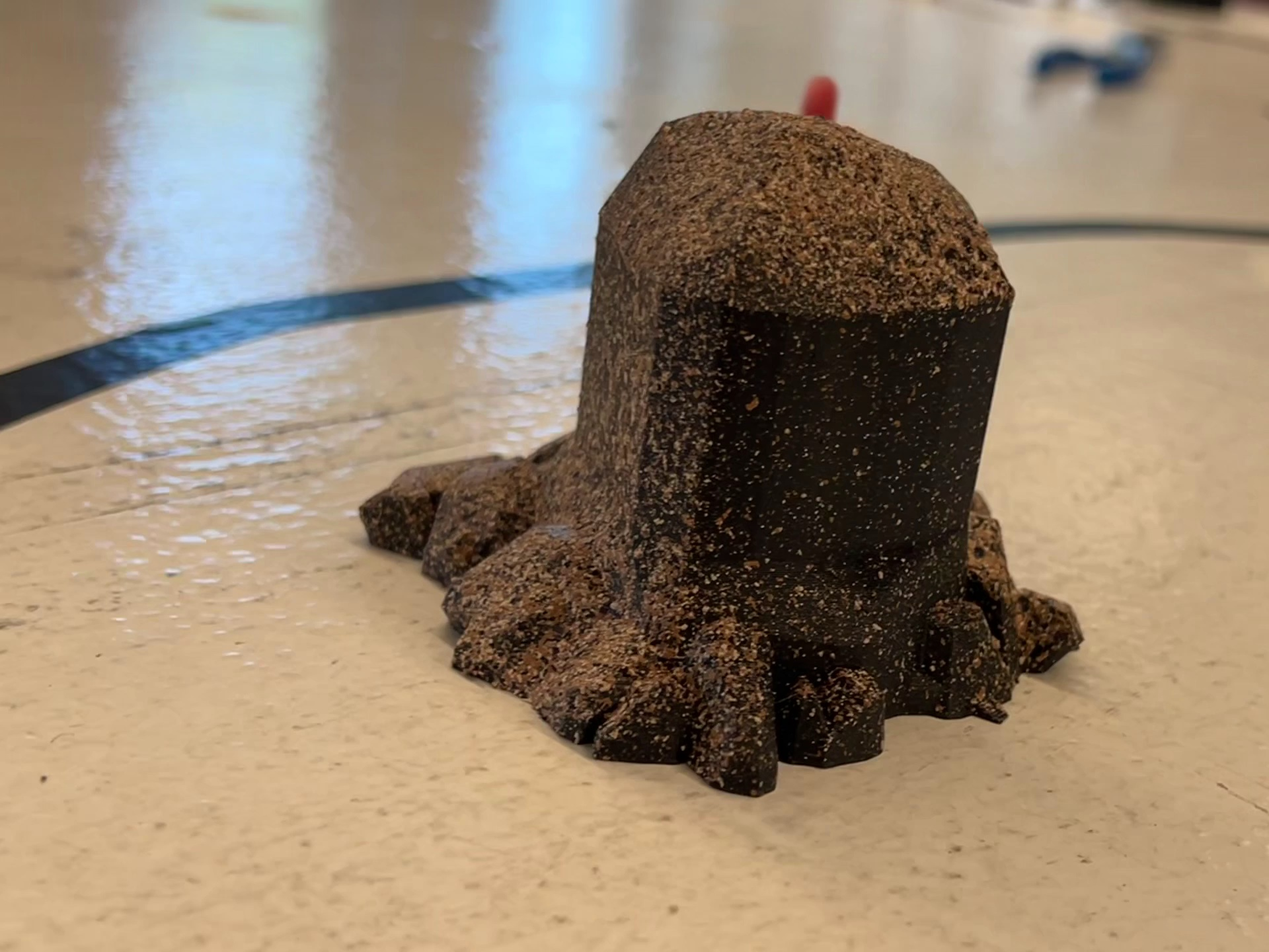teletubby: (802, 76, 837, 119)
